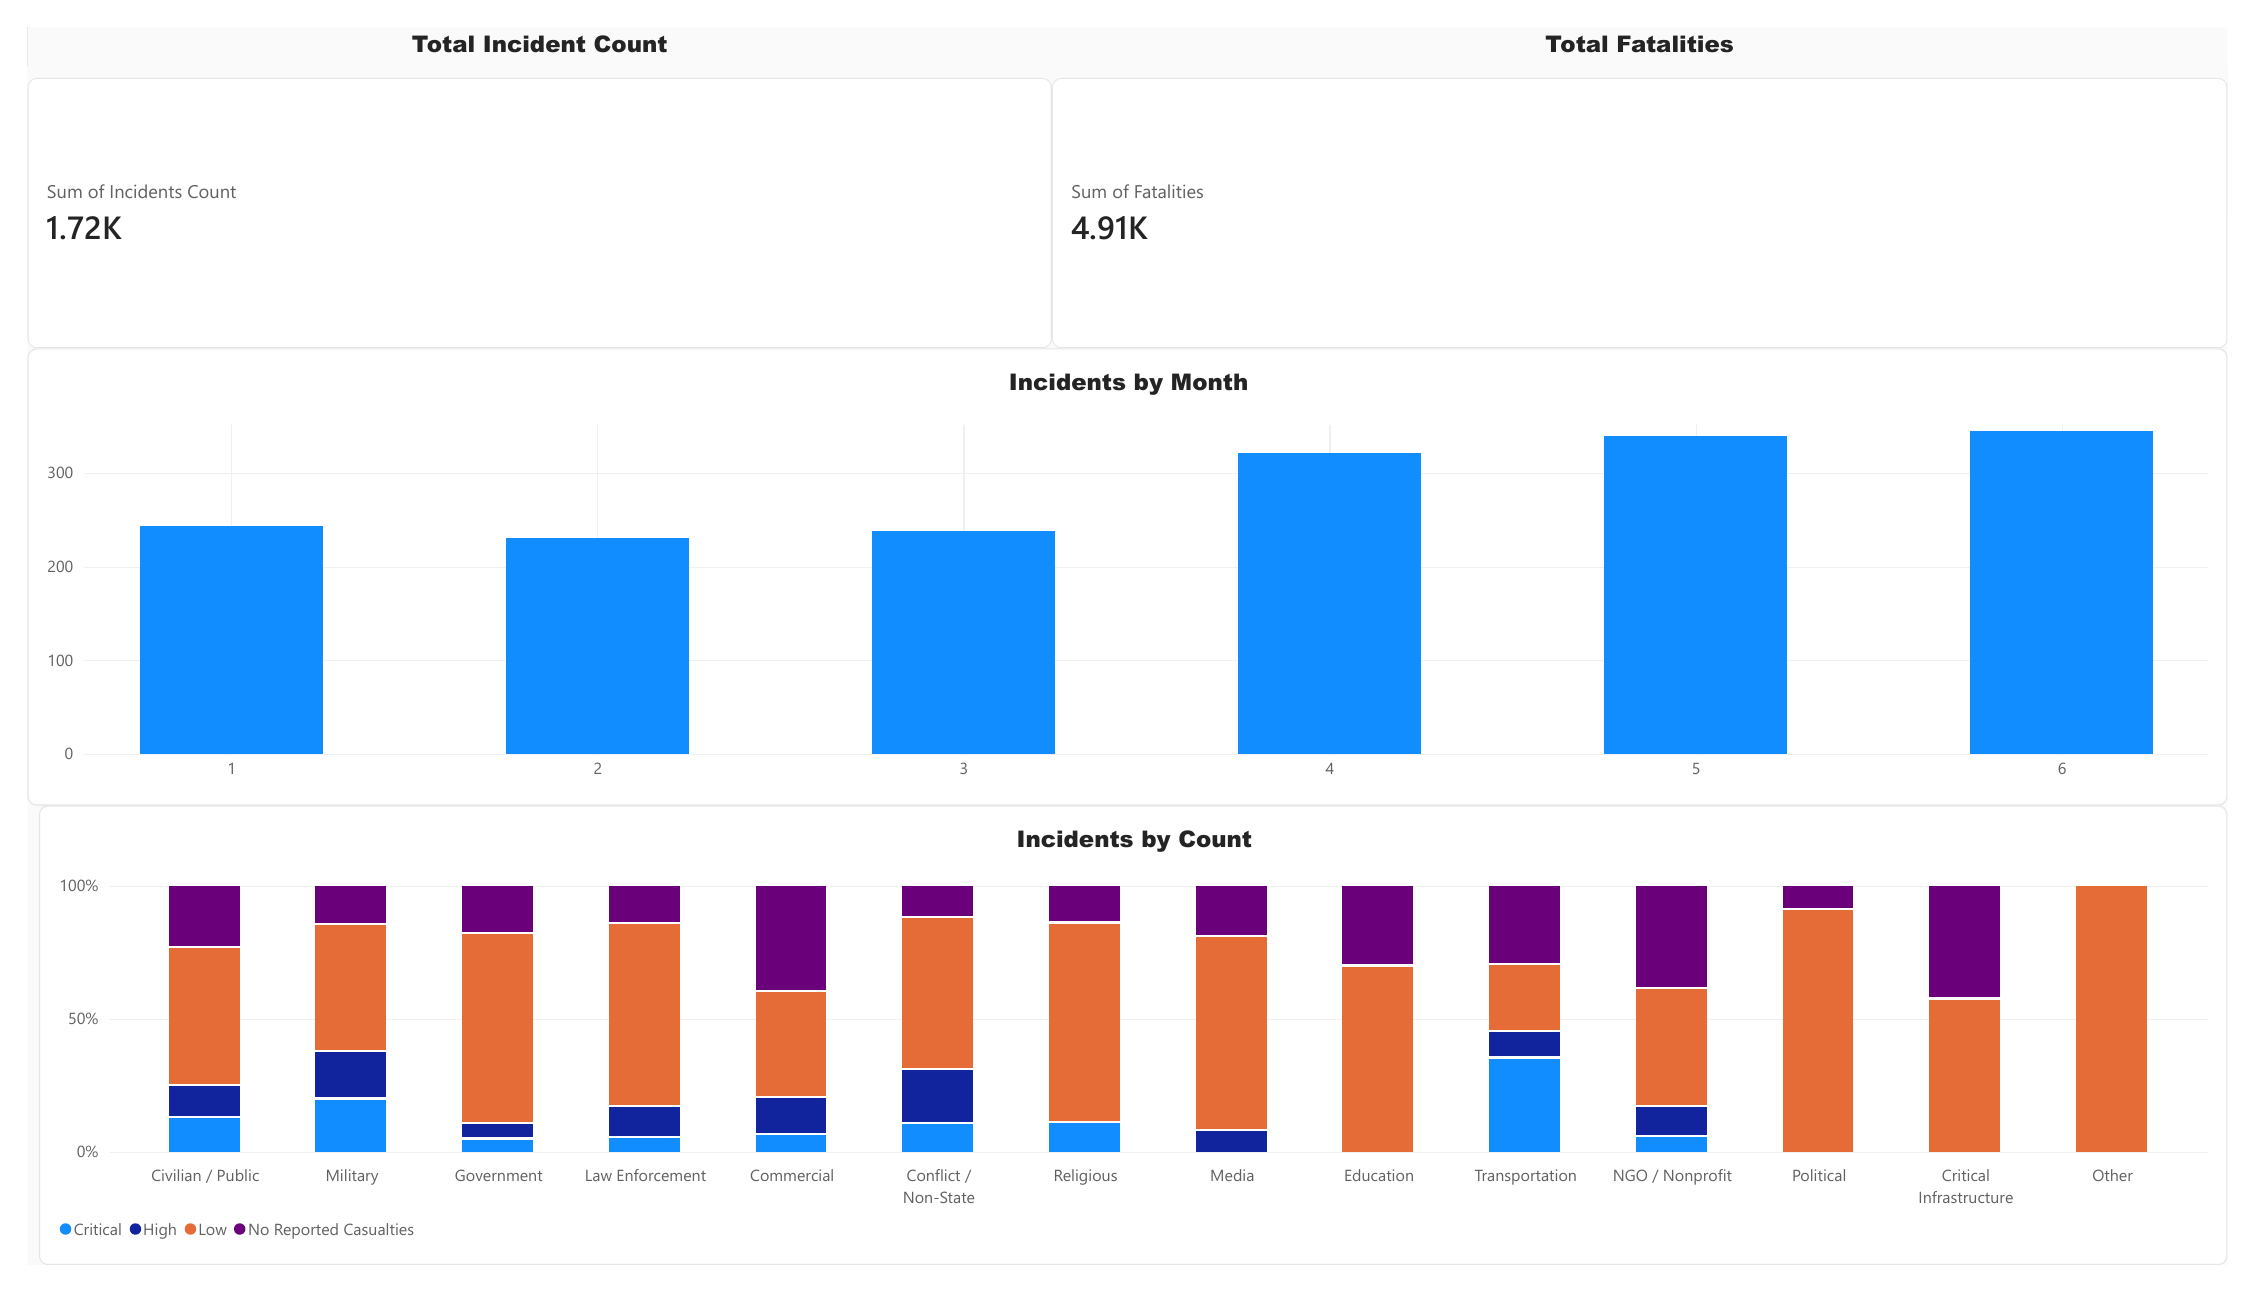

The page's visual inventory and layout, read from the dashboard file:
{"tool":"powerbi","page":{"name":"Sumary Trents","canvas":[1920,1080],"ordinal":2},"visuals":[{"type":"clusteredColumnChart","title":"Incidents by Month","fields":{"Category":["AGG_SECURITY_BY_MONTH.IMONTH"],"Y":["Sum(AGG_SECURITY_BY_MONTH.INCIDENTS)"]},"box":[0,280,1920,398.6],"z":0},{"type":"hundredPercentStackedColumnChart","title":"Incidents by Count","fields":{"Category":["MART_SEVERITY_BY_ENVIRONMENT.TARGET_ENVIRONMENT"],"Y":["Sum(MART_SEVERITY_BY_ENVIRONMENT.INCIDENT_COUNT)"],"Series":["MART_SEVERITY_BY_ENVIRONMENT.SEVERITY_CATEGORY"]},"box":[10,678.6,1910,401.4],"z":1000},{"type":"cardVisual","title":"Total Incident Count","fields":{"Data":["Sum(MART_SEVERITY_BY_ENVIRONMENT.INCIDENT_COUNT)"]},"box":[0,0,894.3,280],"z":2000},{"type":"cardVisual","title":"Total Fatalities","fields":{"Data":["Sum(MART_SECURITY_SEVERITY.TOTAL_FATALITIES)"]},"box":[894.3,0,1025.7,280],"z":3000}]}

Visuals, with their boxes in screenshot pixels (x1, y1, x2, y2), scaled from the page's 1920x1080 canvas onto the 2255x1293 screenshot:
"Incidents by Month" clusteredColumnChart: detection(0, 335, 2254, 812)
"Incidents by Count" hundredPercentStackedColumnChart: detection(12, 812, 2254, 1292)
"Total Incident Count" cardVisual: detection(0, 0, 1050, 335)
"Total Fatalities" cardVisual: detection(1050, 0, 2254, 335)
